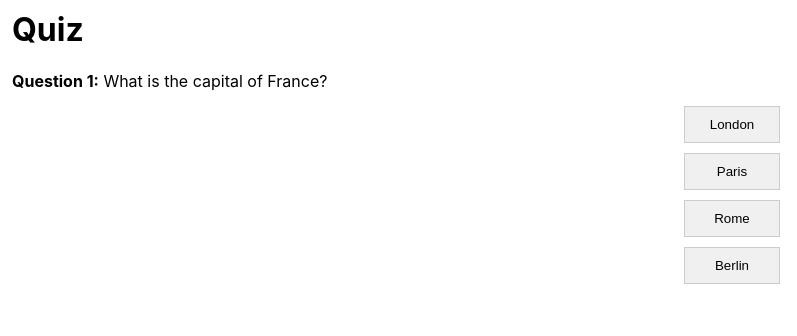
Test: QuizComponent › displays quiz questions correctly and handles answer selection
The image size is (797, 336).
Expected: the text "What is the capital of France?" is shown, left=103, top=71, right=327, bottom=91
What coordinates should you click on to do the following:
click the button "London"
I would click on:
 (732, 124)
Its box is left=684, top=106, right=780, bottom=143.
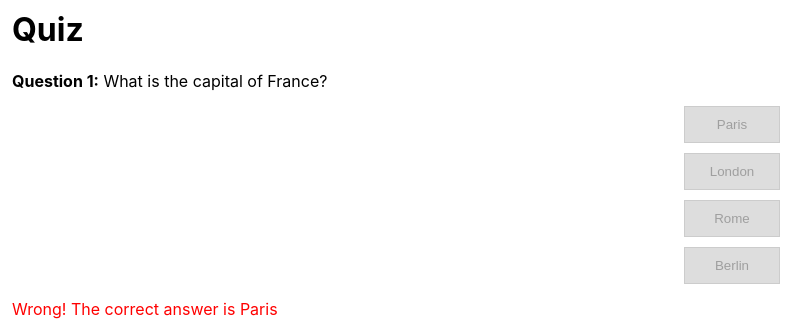
Expected: the text "Wrong! The correct answer is Paris" is shown, left=12, top=299, right=278, bottom=319
